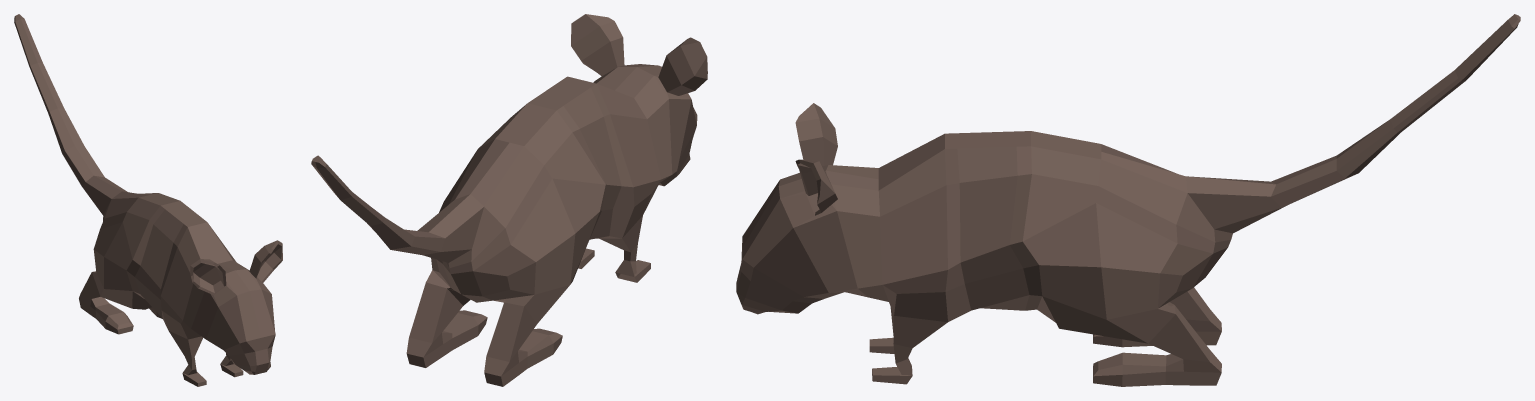
File: Fare.fbx
The picture shows the model from 3 angles, left to right: view 1: azimuth 30°, elevation 25°; view 2: azimuth 150°, elevation 25°; view 3: azimuth 270°, elevation 25°; orthographic projection. The views are drawn at different scales.
Visible parts, largest first — view 1: Mouse; view 2: Mouse; view 3: Mouse.
Boxes of the visible parts, x1,y1,x2,y2 form: Mouse: (14,14,282,386); Mouse: (311,14,707,386); Mouse: (736,14,1520,386).
Size of the model in its own units: 6.48 by 14.79 by 29.98.
